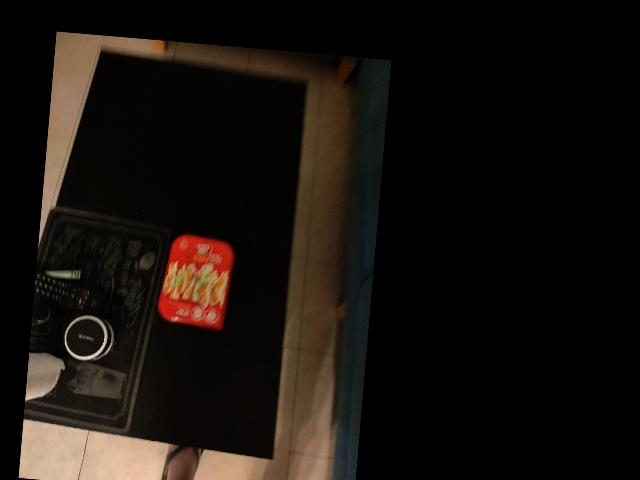cheese: (152, 227, 236, 333)
